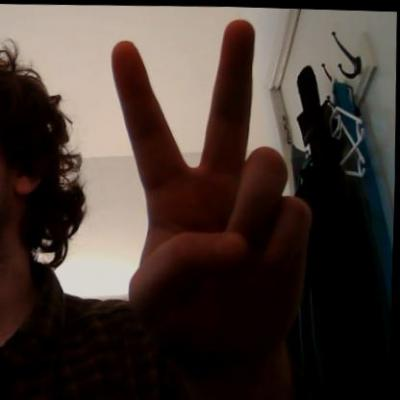hand: (103, 14, 320, 374)
